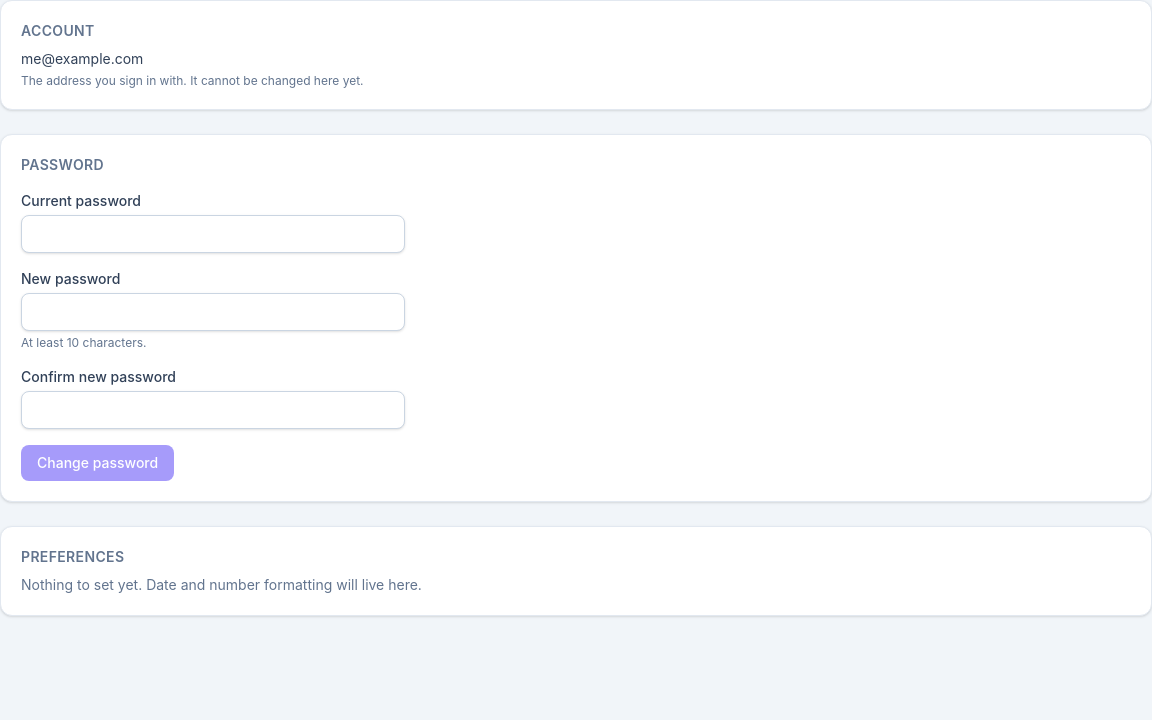
Test: change password form › confirms success and empties every field
The image size is (1152, 720).
Type "the old one" into the password field labelled "Current password" at coordinates (213, 234), box [21,215,405,253]
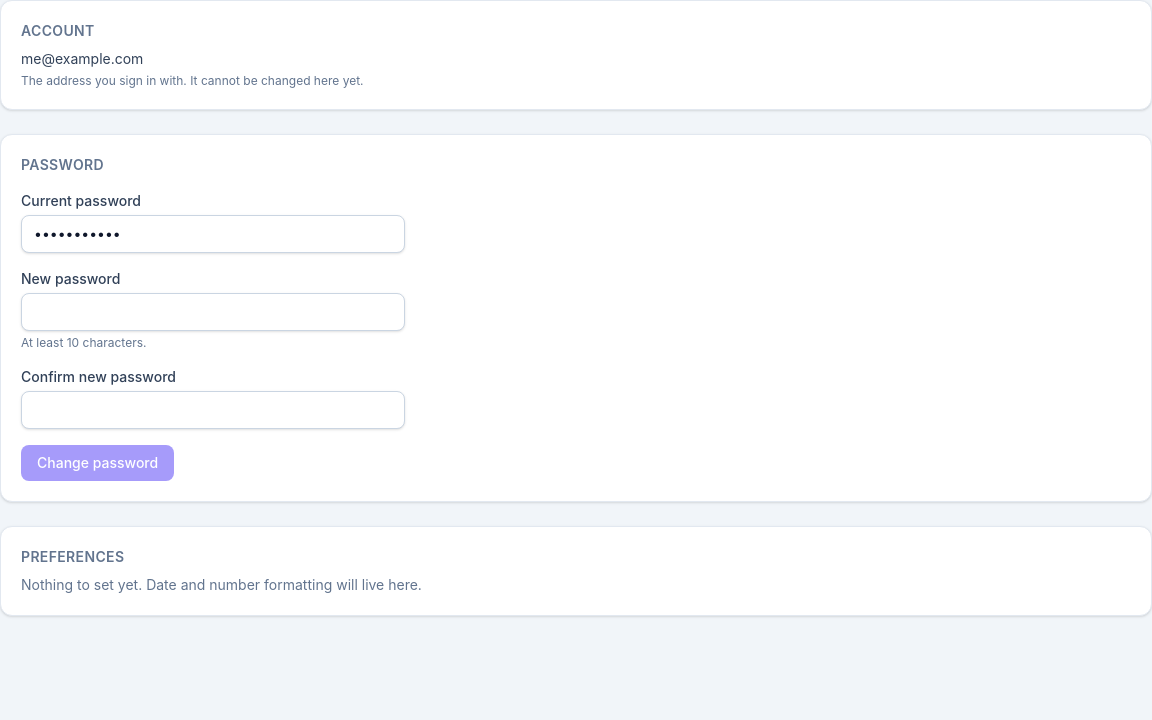
Type "a long enough new one" into the password field labelled "New password" at coordinates (213, 312), box [21,293,405,331]
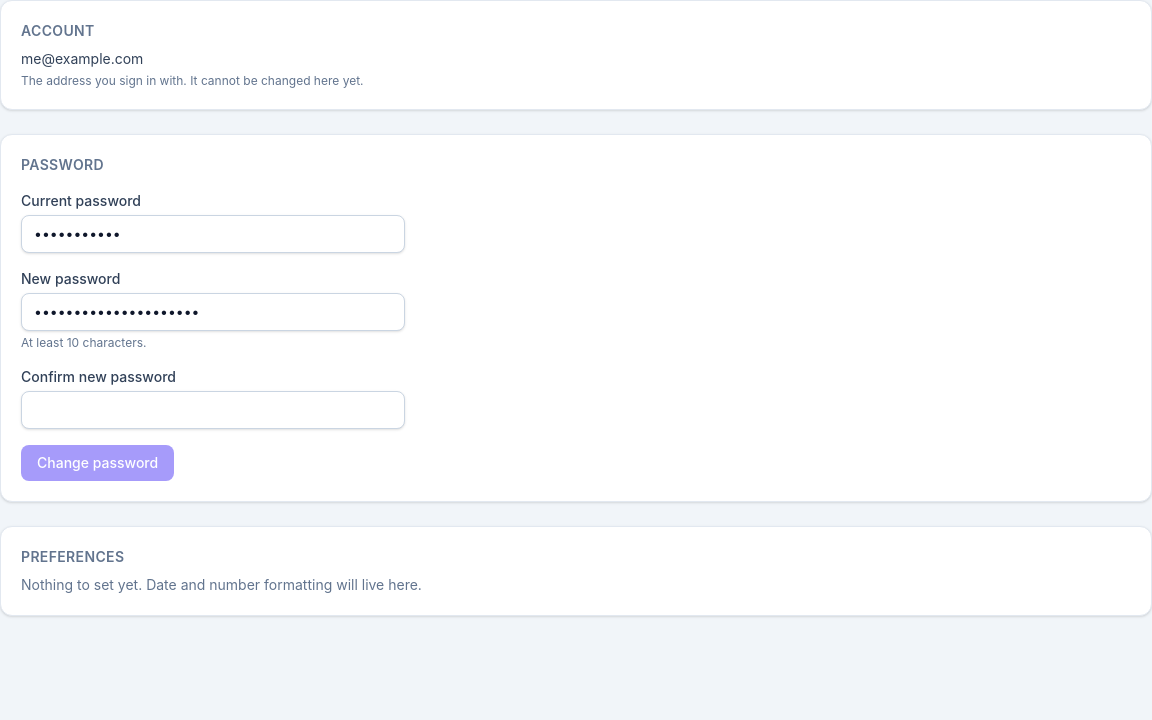
Type "a long enough new one" into the password field labelled "Confirm new password" at coordinates (213, 410), box [21,391,405,429]
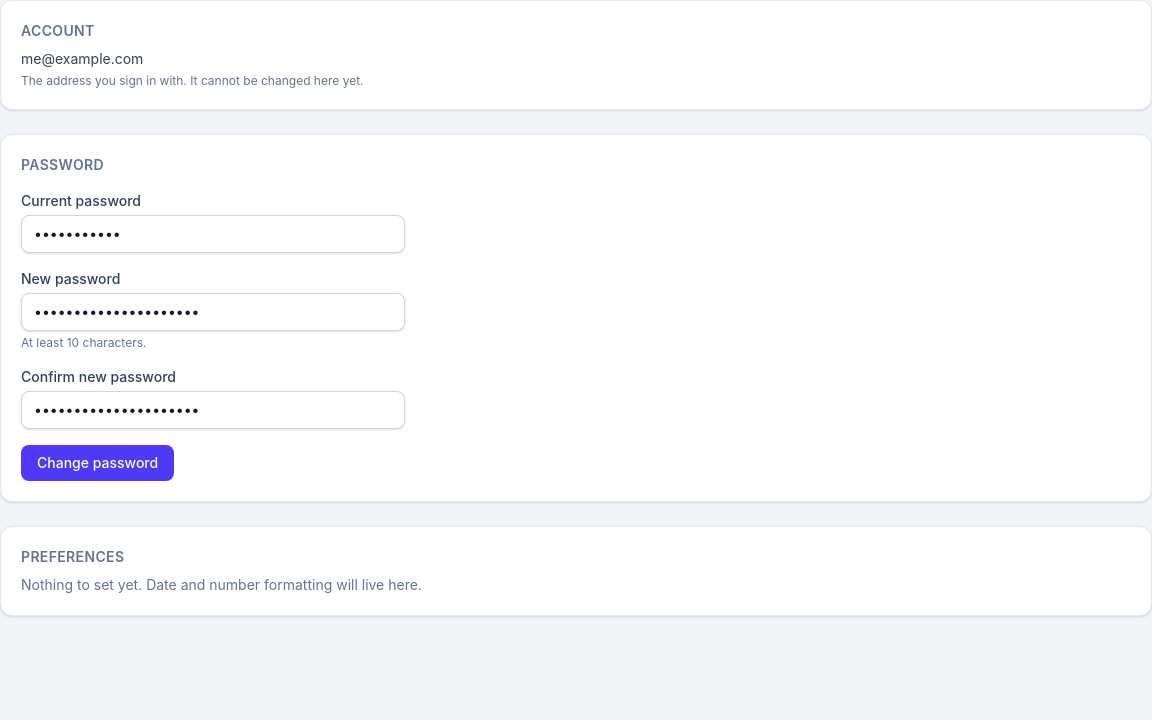
Click the button "Change password" at coordinates (98, 463), box [21,445,174,481]
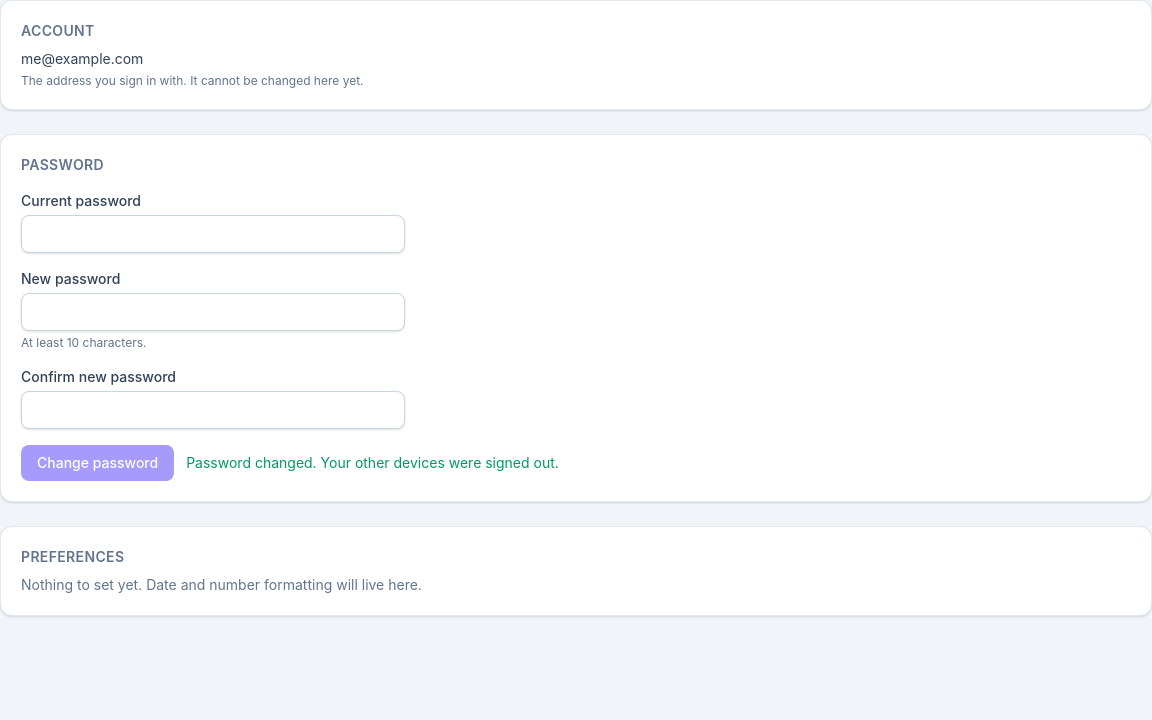
Now the text "Password changed. Your other devices were signed out." is shown, box [186,453,559,473]
Now the password field labelled "Current password" is empty, box [21,215,405,253]
Now the password field labelled "New password" is empty, box [21,293,405,331]
